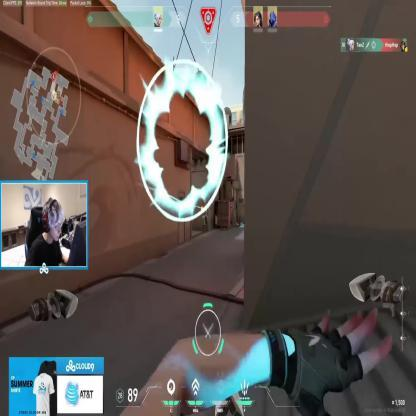enemy: (202, 202, 207, 229)
enemy_head: (204, 202, 206, 210)
